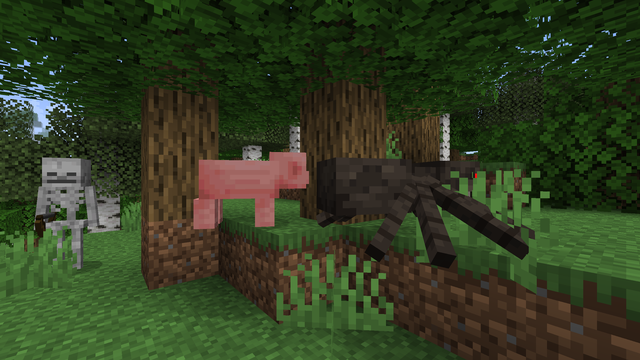araignees: (316, 139, 505, 269)
cochons: (199, 156, 286, 232)
squelettes: (40, 157, 90, 277)
